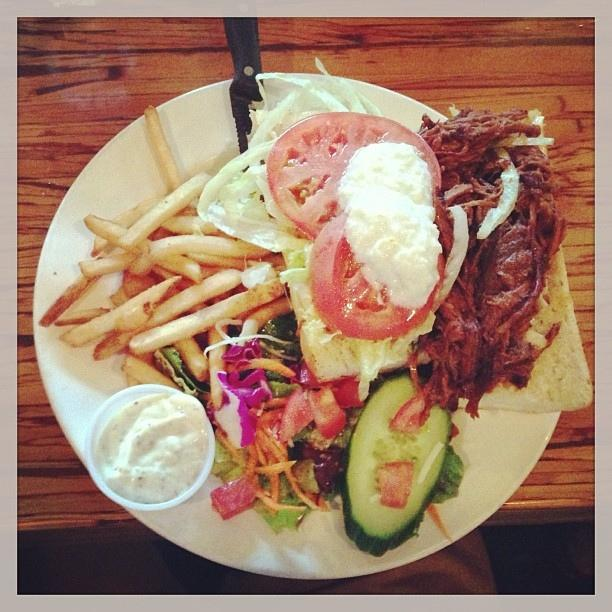cucumber: (340, 371, 452, 556)
lettuce: (197, 138, 278, 225), (206, 202, 312, 253), (248, 90, 295, 168), (254, 74, 350, 112), (316, 55, 366, 113), (224, 164, 267, 218), (161, 346, 210, 392), (256, 176, 298, 228), (430, 445, 465, 504), (355, 339, 386, 401), (254, 500, 307, 536), (210, 436, 246, 484), (288, 243, 315, 269), (269, 380, 302, 398), (242, 188, 260, 210)
tomato: (267, 112, 442, 242), (308, 213, 445, 343)
